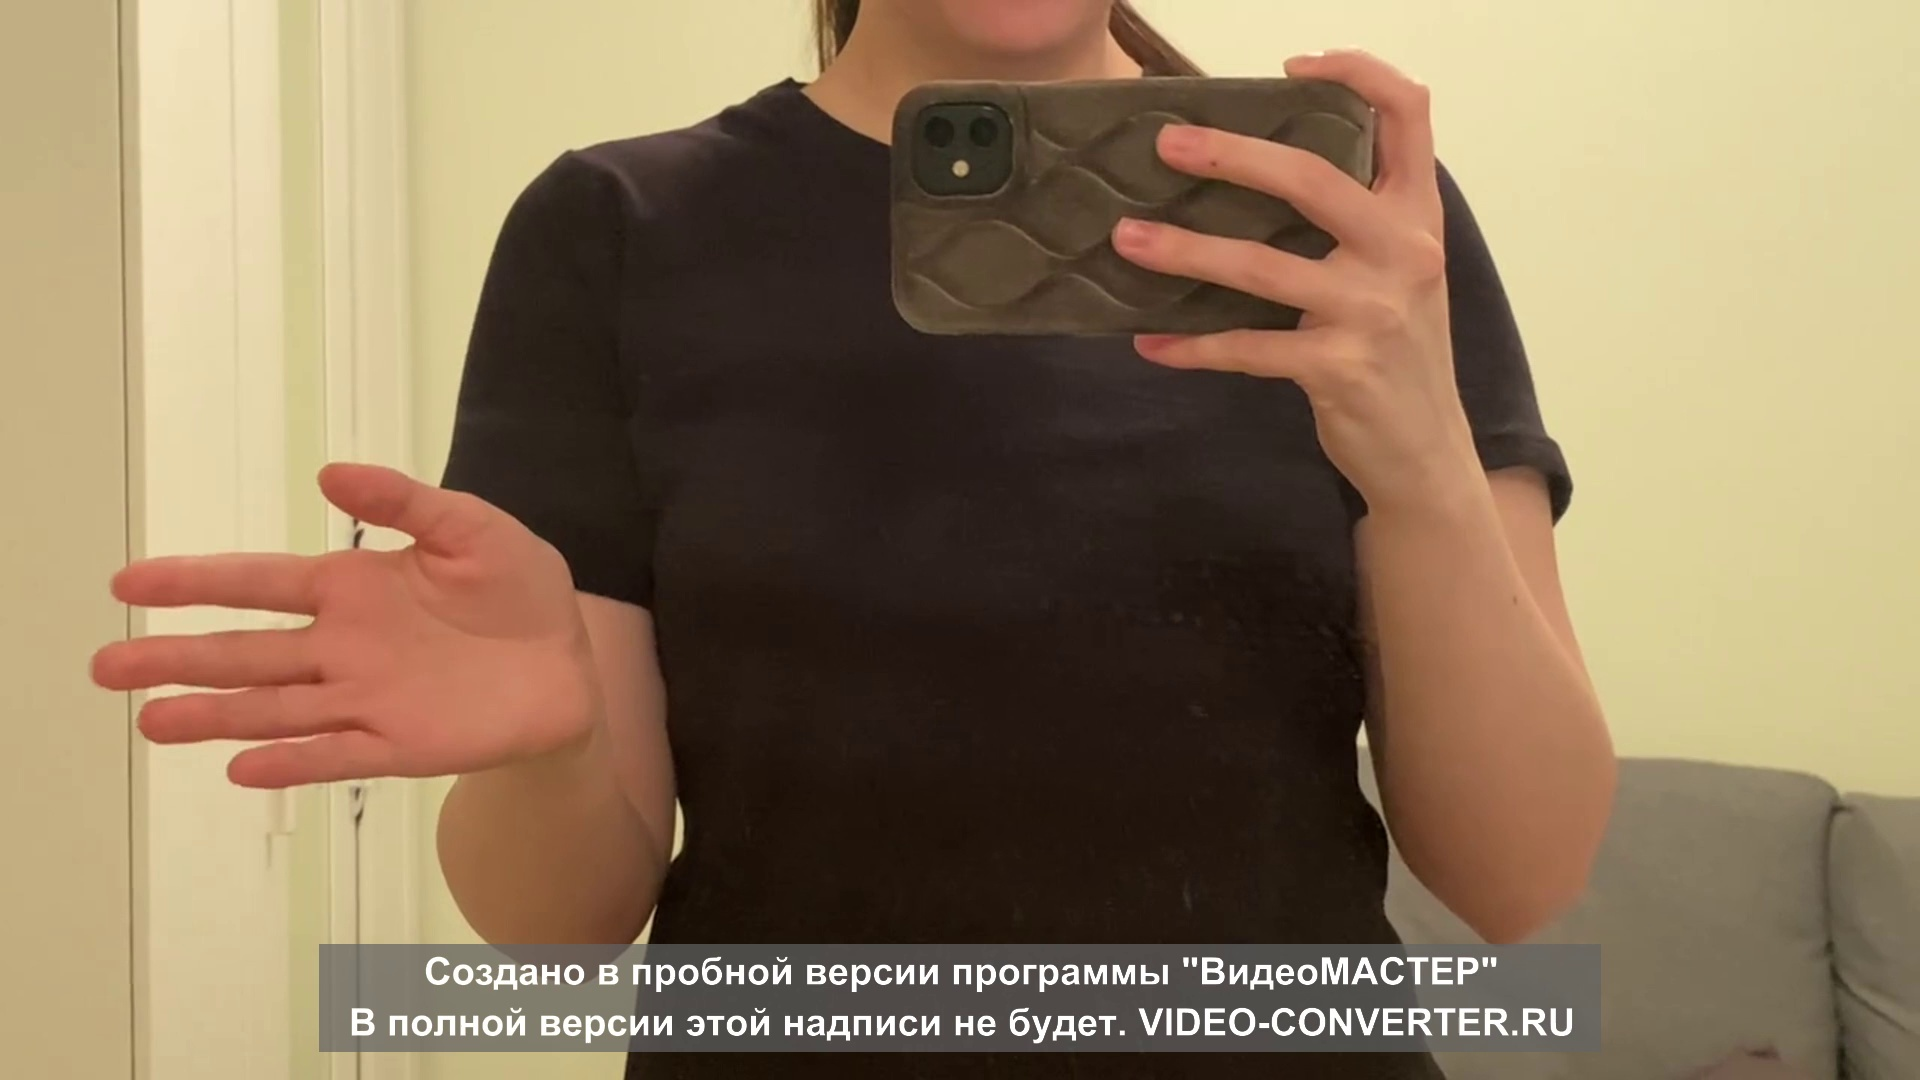Ладонь: (91, 460, 599, 793)
